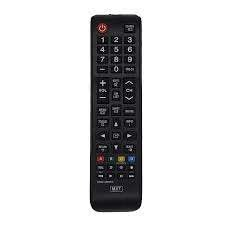remote control: (86, 8, 149, 221)
